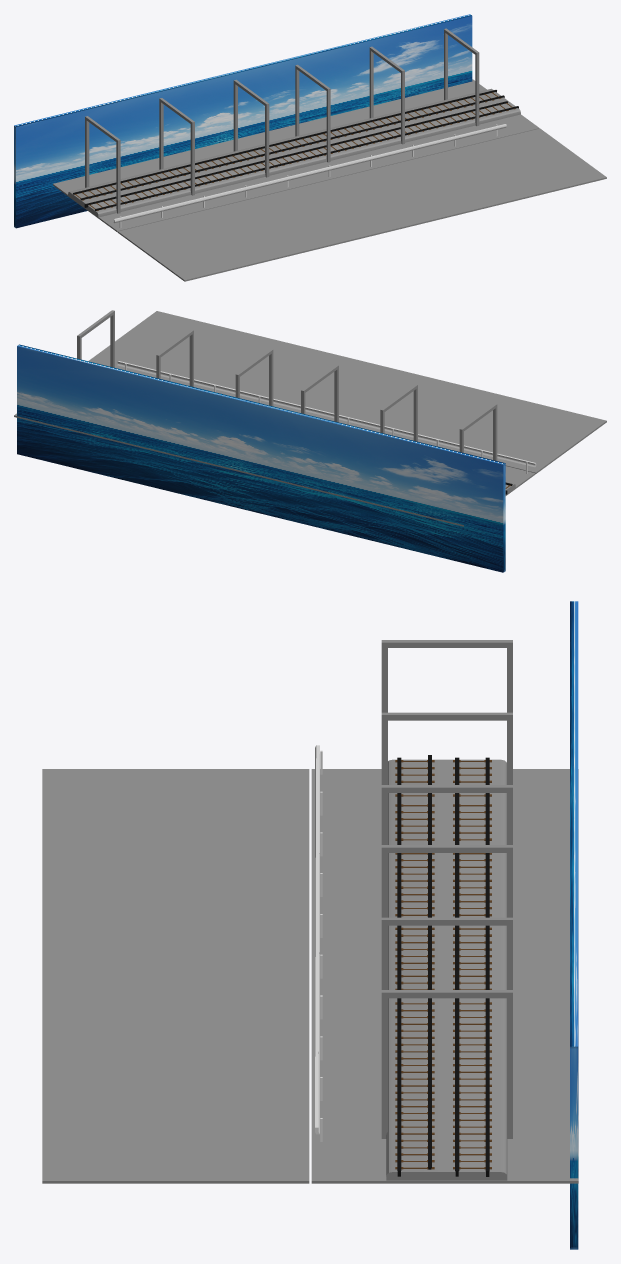
The model's file is TGM-complet.FBX.
The picture shows the model from 3 angles, top to bottom: view 1: azimuth 30°, elevation 25°; view 2: azimuth 150°, elevation 25°; view 3: azimuth 270°, elevation 25°; orthographic projection. The views are drawn at different scales.
Visible parts, largest first — view 1: Box099, Box178, Box095, Box017, Box167, Box097, Box098, Box096, Box070, Box032, Box030, Box031 (+3 smaller); view 2: Box099, Box178, Box167, Box095, Box030, Box164, Box165, Box032, Box031, Box166; view 3: Box178, Box095, Box017, Box099, Box165, Box031, Box166, Box167, Box070, Box096, Box098, Box030 (+3 smaller).
Boxes of the visible parts, <box> form: Box099: <box>14,14,472,228</box>; Box178: <box>118,128,606,281</box>; Box095: <box>53,79,539,232</box>; Box017: <box>68,88,520,217</box>; Box167: <box>113,124,506,223</box>; Box097: <box>84,101,507,207</box>; Box098: <box>95,106,518,210</box>; Box096: <box>80,95,504,200</box>; Box070: <box>73,90,496,194</box>; Box032: <box>233,79,269,177</box>; Box030: <box>85,116,120,213</box>; Box031: <box>159,98,194,195</box>; Box099: <box>17,344,505,572</box>; Box178: <box>88,311,606,474</box>; Box167: <box>117,361,536,467</box>; Box095: <box>14,413,535,526</box>; Box030: <box>459,403,497,460</box>; Box164: <box>235,349,273,406</box>; Box165: <box>77,310,114,367</box>; Box032: <box>301,365,338,422</box>; Box031: <box>380,384,417,441</box>; Box166: <box>156,329,193,386</box>; Box178: <box>42,769,309,1183</box>; Box095: <box>311,769,578,1183</box>; Box017: <box>386,759,507,1180</box>; Box099: <box>570,601,578,1249</box>; Box165: <box>381,990,512,1138</box>; Box031: <box>381,712,512,784</box>; Box166: <box>381,917,512,989</box>; Box167: <box>315,745,319,1134</box>; Box070: <box>485,757,489,1176</box>; Box096: <box>455,757,459,1176</box>; Box098: <box>397,757,401,1176</box>; Box030: <box>381,640,512,712</box>.
Bounding box in the file's own units: 1753 × 397 × 885.
4 materials, 1 textured.
